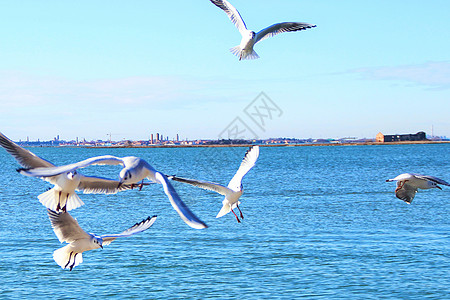bird: (15, 153, 212, 232), (1, 130, 148, 213), (40, 204, 160, 271), (166, 143, 263, 224), (207, 1, 319, 59), (386, 172, 450, 204)
